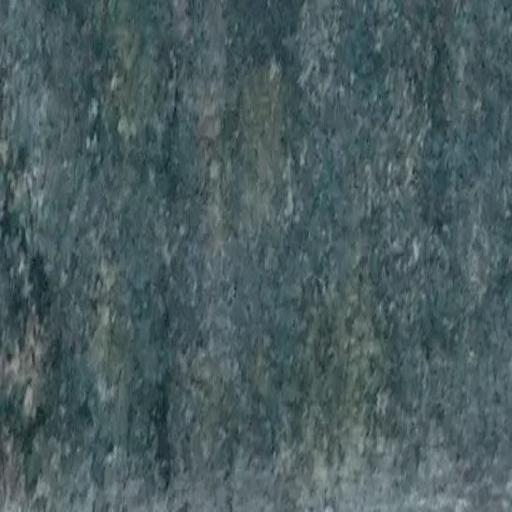algae: (1, 0, 512, 512)
